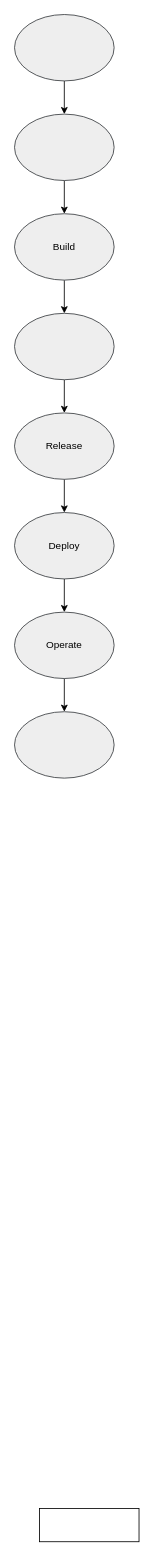
Some shapes in this 154 by 1556 pixel diagram are drawn without their labels. The centre of each missing label's shape, as x and y in pixels:
"Develop" belongs at pixel 64 147.
"Monitor" belongs at pixel 64 744.
"Testmode" belongs at pixel 64 346.
